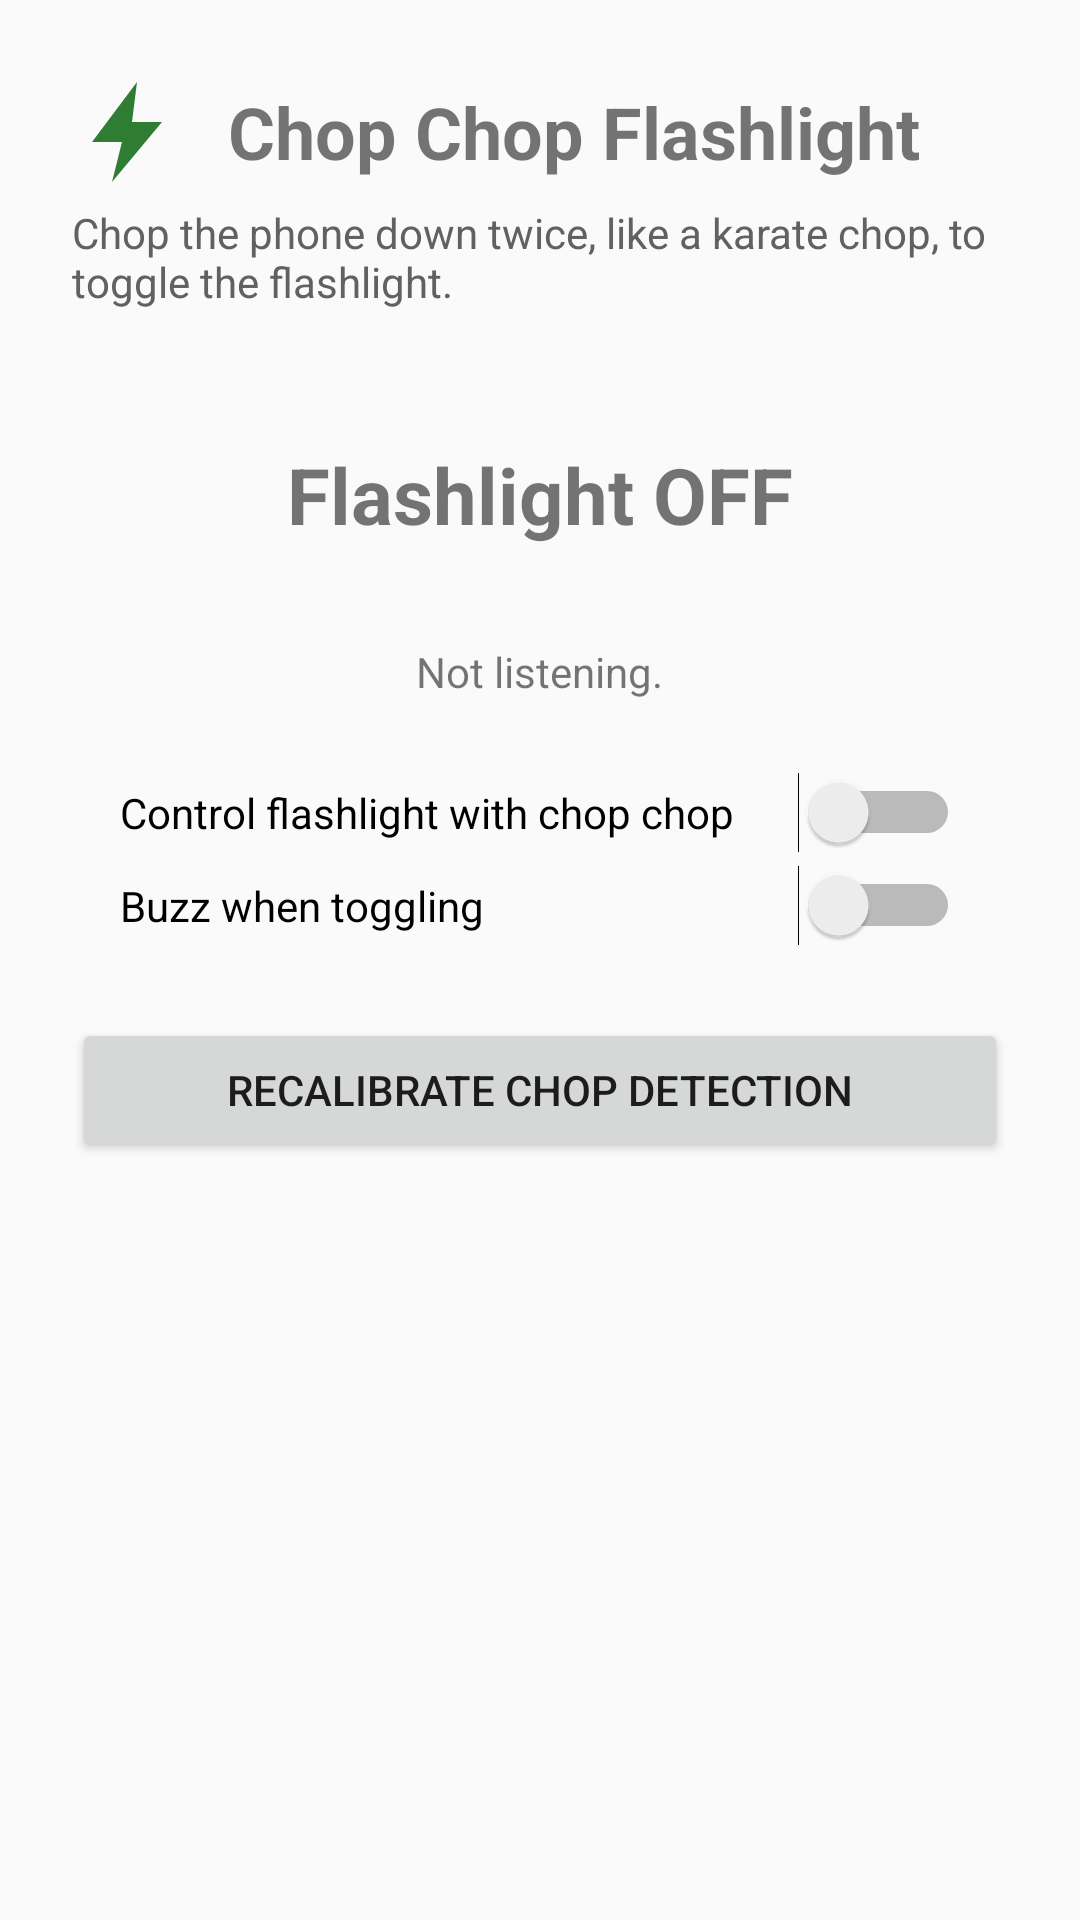

Named icons in this screenshot (1080×1920) and their bounding boxes, {"left": x1, "top": y1, "right": x2, "bottom": y2}:
bolt: {"left": 92, "top": 82, "right": 162, "bottom": 182}
